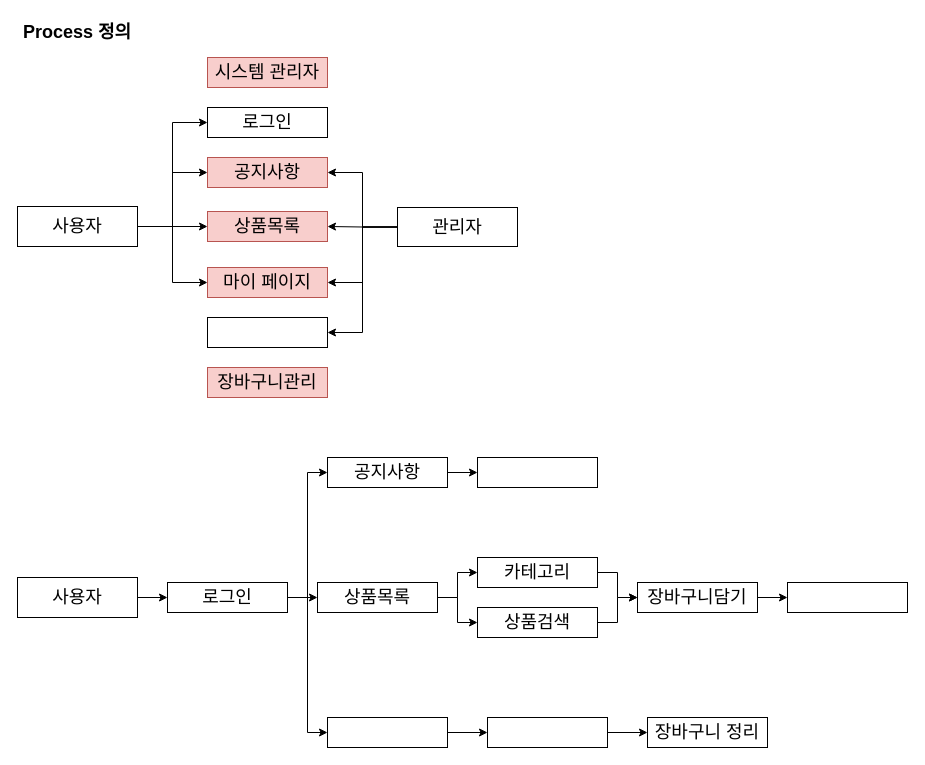
This 925x765 diagram has some shape labels left out. Here are the shapes that lost their labels. From the top down, the centre of each, then its label:
At point (267, 332): "회원관리".
At point (537, 472): "공지사항 조회".
At point (847, 597): "결제".
At point (387, 732): "마이페이지".
At point (547, 732): "장바구니 조회".
